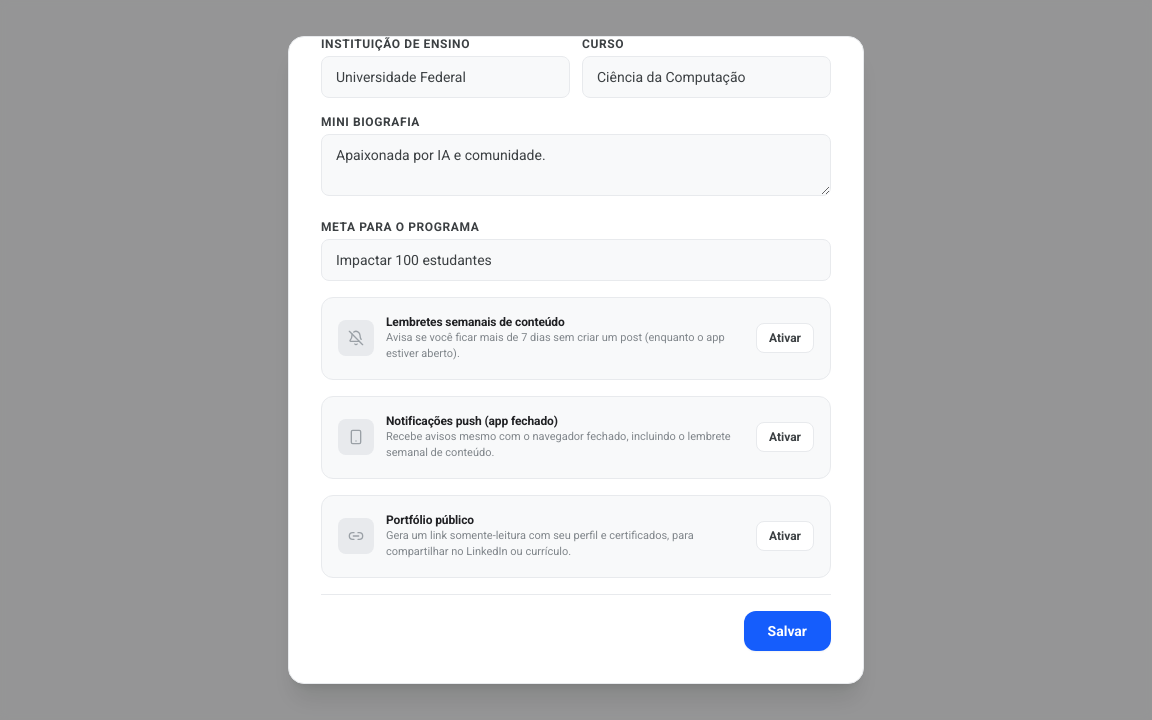
Test: ProfileModal › turns on the public portfolio toggle and shows a shareable link
The width and height of the screenshot is (1152, 720).
(page scrolled)
What coordinates should you click on to do the following:
click the button "Ativar" in the row of "Portfólio público"
I would click on:
 (785, 536)
Its box is x1=756 y1=521 x2=814 y2=551.
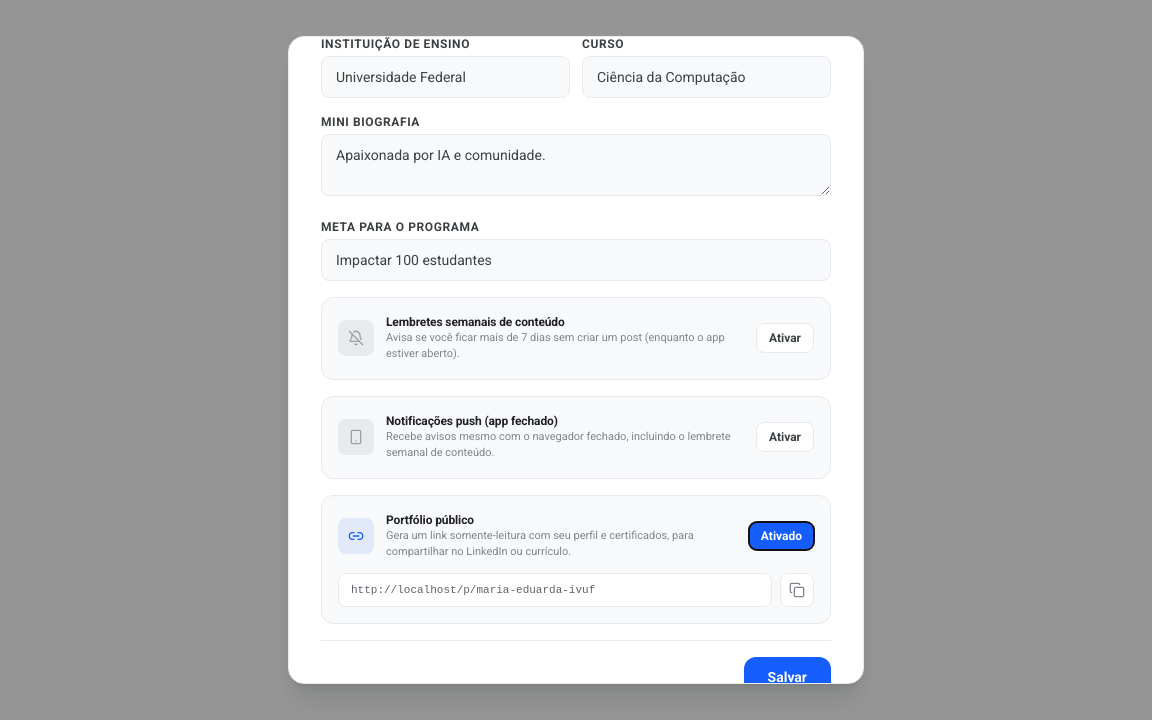
Expected: the button named "Copiar link do portfólio" is shown, x1=780 y1=573 x2=814 y2=607
